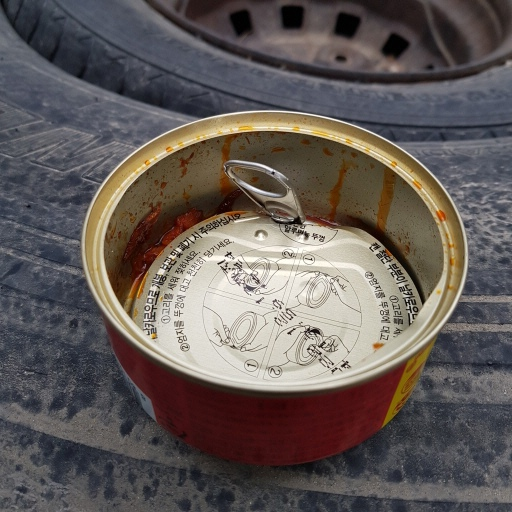Metal_1: (80, 108, 468, 462)
